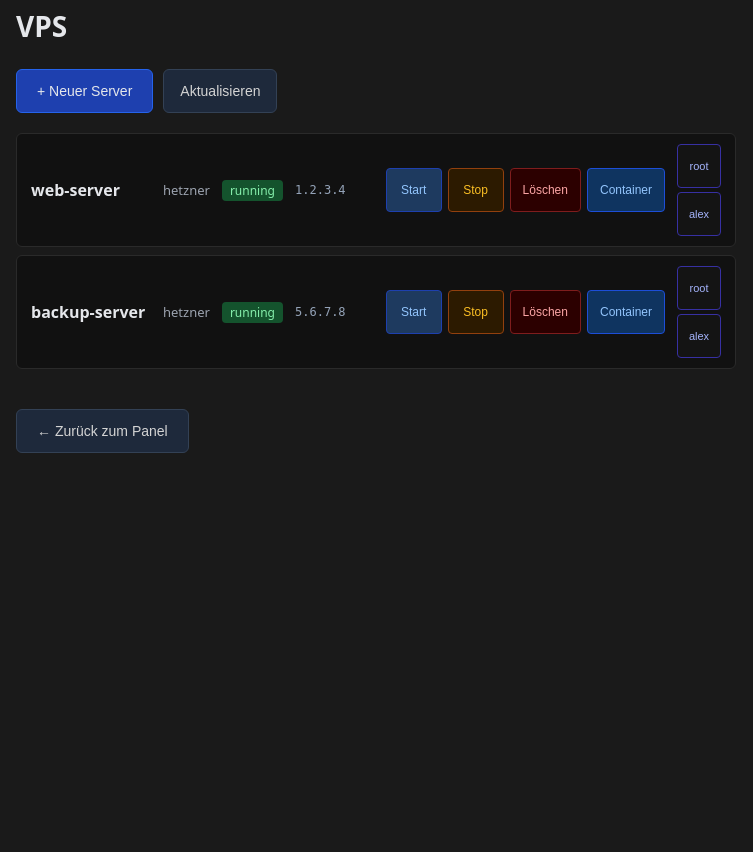
Test case: VpsSshTerminal — AC4: Fehlerklassen-Anzeige, 403, Liste bleibt intakt › zeigt eine {type:"error"}-Meldung geheimnisfrei in genau diesem Fenster
Step 1. Click the button with aria-label "SSH-Terminal als root für web-server öffnen" → [699, 166], box [677,144,721,188]
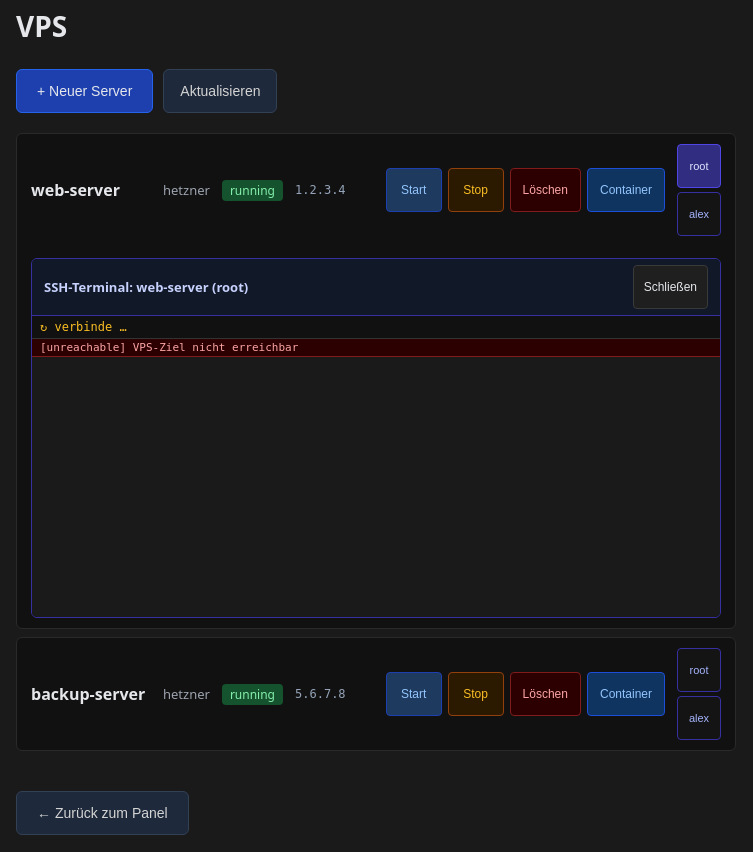
Expected: the button with aria-label "SSH-Terminal als alex für backup-server öffnen" is shown, [677,696,721,740]
Expected: the message "[unreachable] VPS-Ziel nicht erreichbar" is shown, [32,339,720,357]
